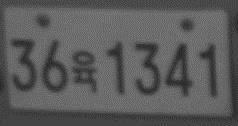1: (199, 41, 219, 100), (106, 41, 127, 97)
3: (132, 41, 164, 96), (9, 37, 37, 93)
4: (166, 42, 194, 98)
6: (41, 40, 68, 92)
육: (71, 49, 99, 95)
